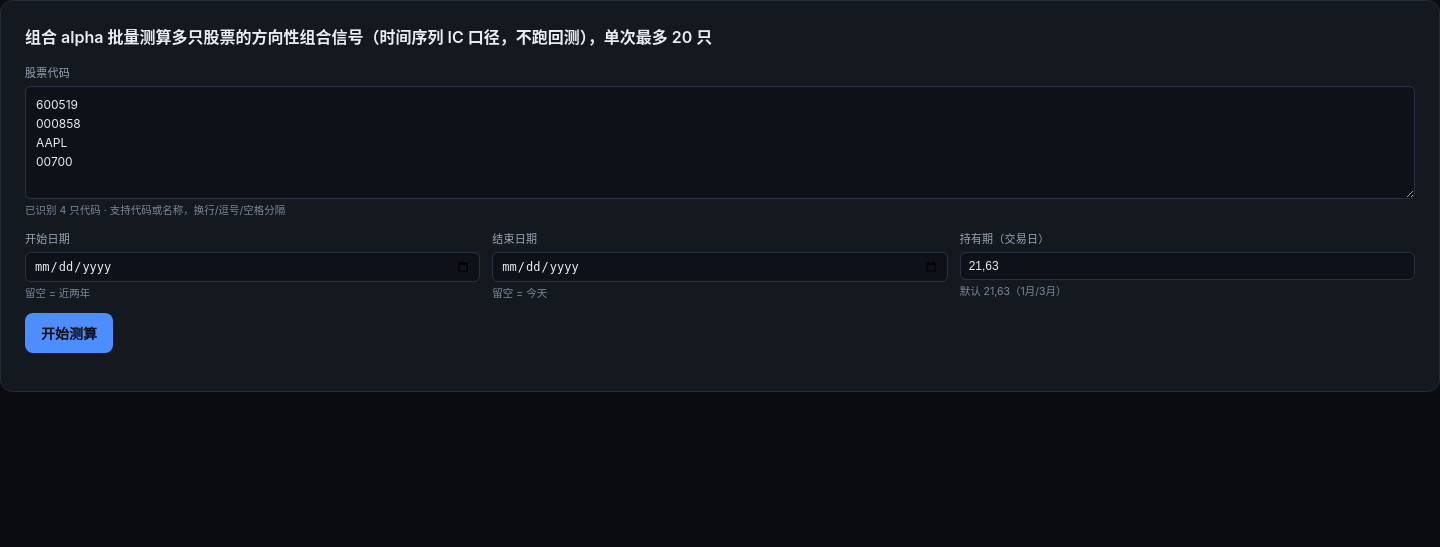
CompositeBatchPanel —— 结果渲染 › 汇总列取「显著因子最多」的持有期，不把不同窗口的数字混在一起
Click the button "开始测算".
click(69, 333)  # box x1=25 y1=313 x2=113 y2=353
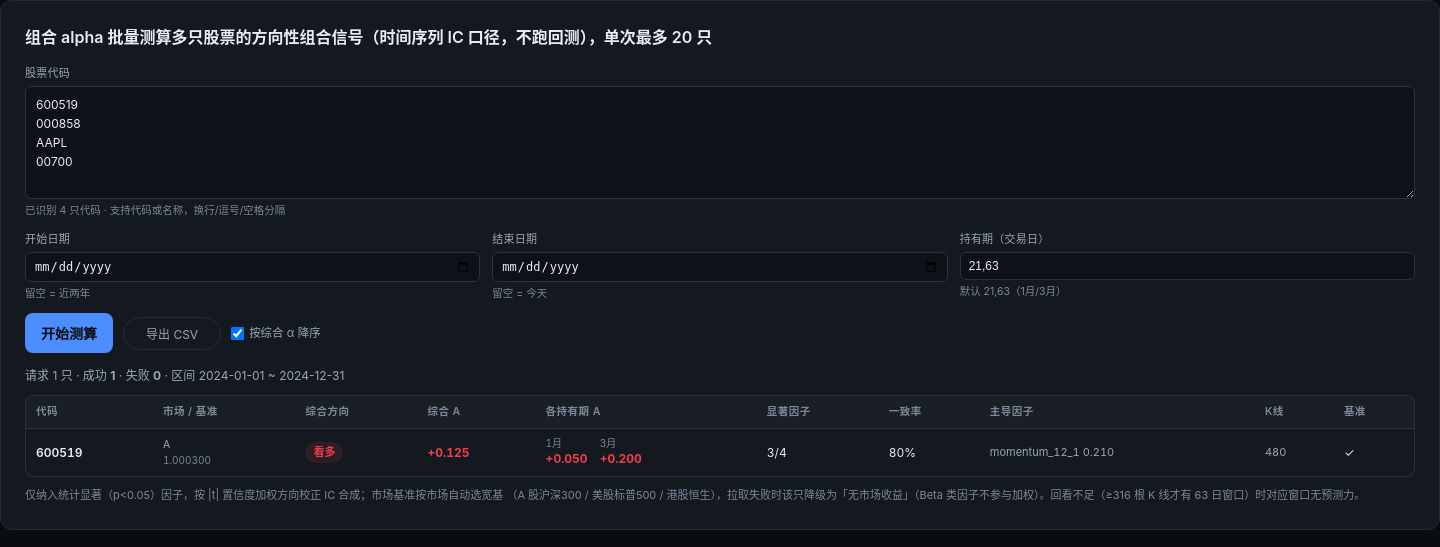
Now the table is shown, box x1=26 y1=396 x2=1414 y2=476
Now the cell "momentum_12_1 0.210" is shown, box x1=980 y1=429 x2=1255 y2=476
